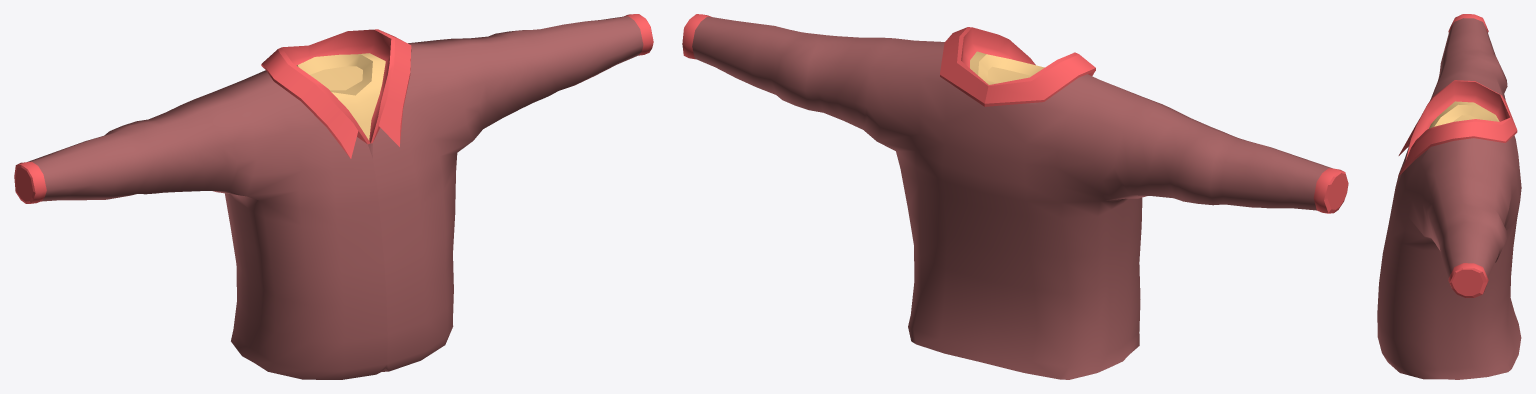
The model's file is Torso_11_04.fbx.
The picture shows the model from 3 angles, left to right: view 1: azimuth 30°, elevation 25°; view 2: azimuth 150°, elevation 25°; view 3: azimuth 270°, elevation 25°; orthographic projection. The views are drawn at different scales.
Visible parts, largest first — view 1: Torso_11_04; view 2: Torso_11_04; view 3: Torso_11_04.
Part boxes in pixels (x1,y1,x2,y2): Torso_11_04: (14,14,653,379); Torso_11_04: (682,14,1348,379); Torso_11_04: (1377,14,1521,379).
Bounding box in the file's own units: 118 × 53.29 × 28.2.
